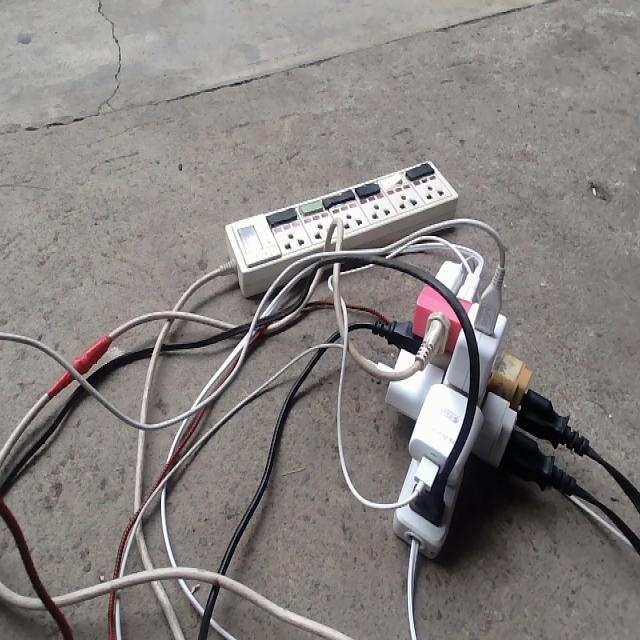-: (367, 251, 591, 556)
